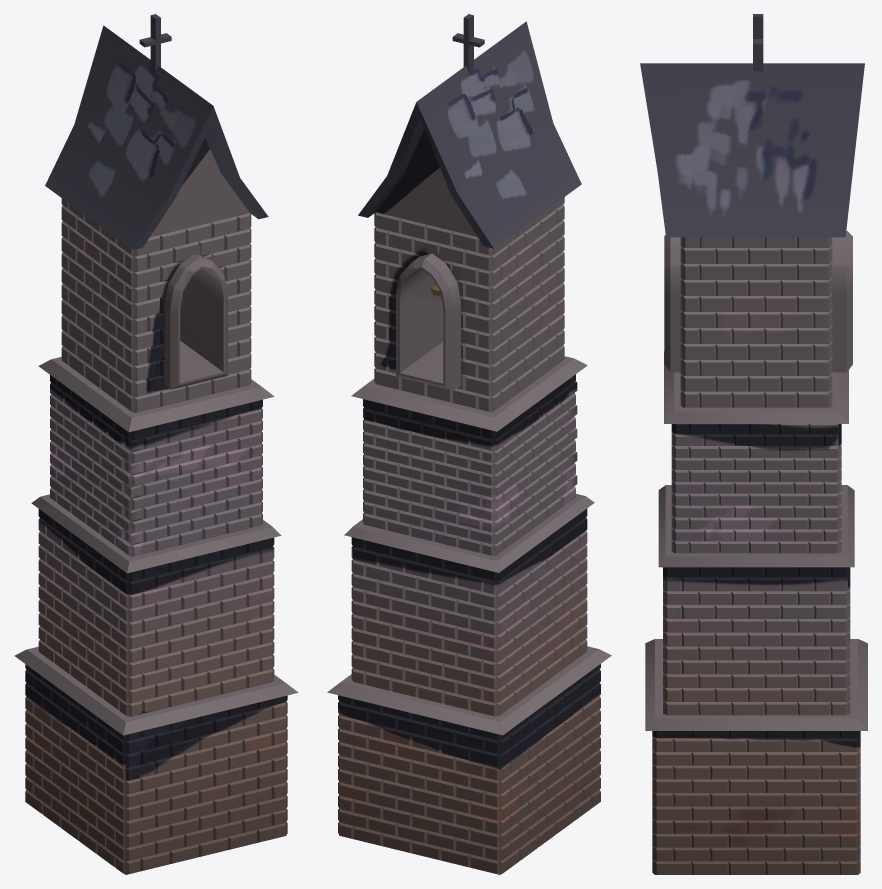
File: tower.fbx
The picture shows the model from 3 angles, left to right: view 1: azimuth 30°, elevation 25°; view 2: azimuth 150°, elevation 25°; view 3: azimuth 270°, elevation 25°; orthographic projection. The views are drawn at different scales.
Visible parts, largest first — view 1: Box001, Box037; view 2: Box001, Box037; view 3: Box001, Box037.
Part boxes in pixels (x1,y1,x2,y2): Box001: (14, 25, 298, 874); Box037: (139, 14, 171, 71); Box001: (327, 21, 611, 874); Box037: (452, 14, 484, 72); Box001: (640, 63, 867, 874); Box037: (753, 14, 763, 71).
Bounding box in the file's own units: 76.48 × 334 × 84.07.
